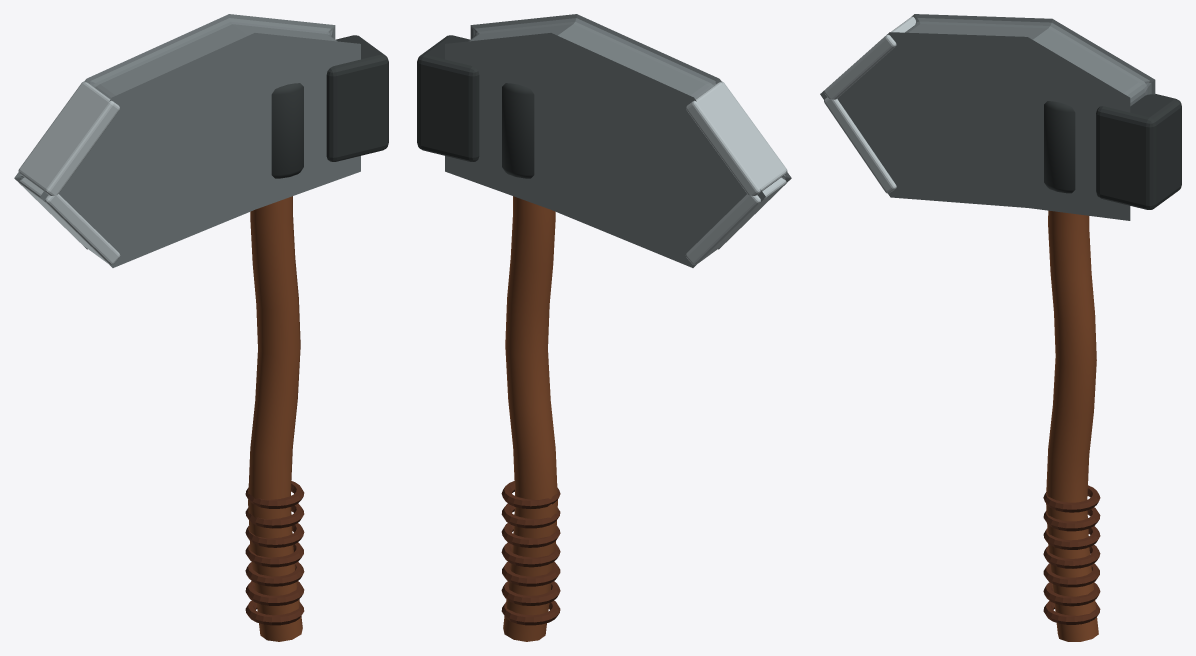
Rendered from SM_Bram_WoodcutterAxe.fbx.
3 views of the same model, side by side, from view 1: azimuth 30°, elevation 25°; view 2: azimuth 150°, elevation 25°; view 3: azimuth 330°, elevation 25° (orthographic). The views are drawn at different scales.
Parts seen in each view (by area): view 1: SM_Bram_WoodcutterAxe; view 2: SM_Bram_WoodcutterAxe; view 3: SM_Bram_WoodcutterAxe.
Part boxes in pixels (x1=…): SM_Bram_WoodcutterAxe: x1=14, y1=14, x2=388, y2=641; SM_Bram_WoodcutterAxe: x1=417, y1=14, x2=791, y2=641; SM_Bram_WoodcutterAxe: x1=820, y1=14, x2=1181, y2=641.
Size of the model in its own units: 0.6261 by 0.104 by 1.07.
